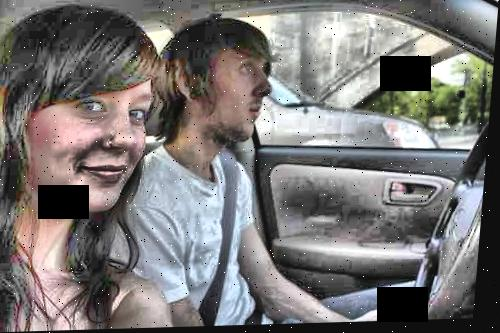seatbelt: (186, 132, 266, 326)
